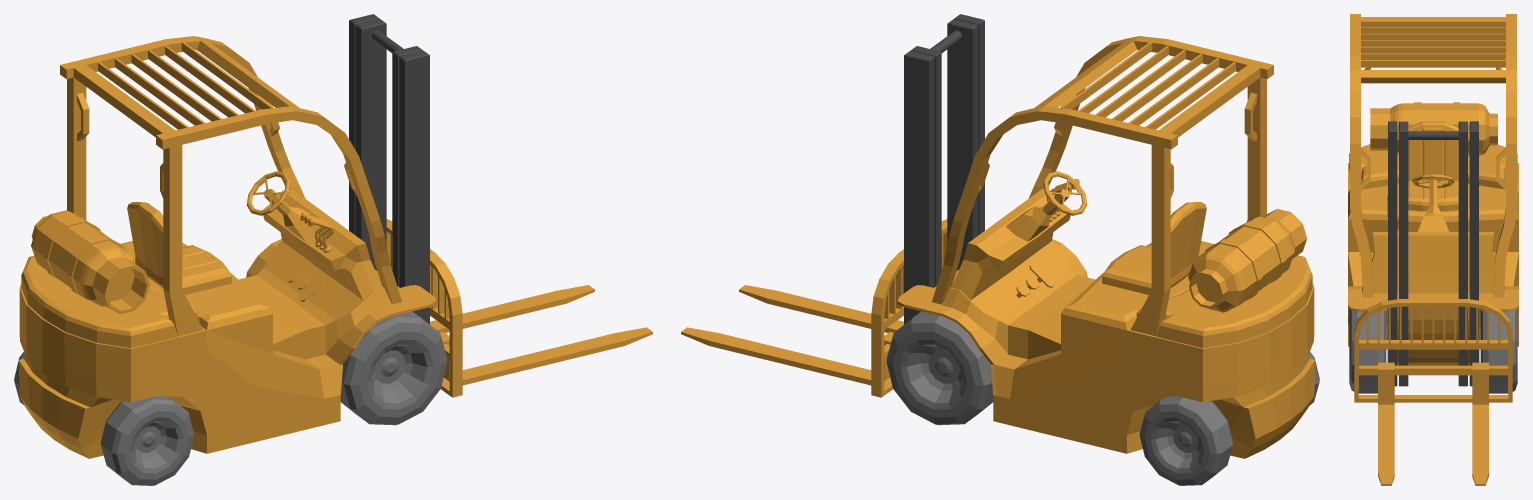
File: Forklift.glb
The picture shows the model from 3 angles, left to right: view 1: azimuth 30°, elevation 25°; view 2: azimuth 150°, elevation 25°; view 3: azimuth 270°, elevation 25°; orthographic projection. The views are drawn at different scales.
Parts seen in each view (by area): view 1: Fork_Lift_Body, Tire_Front_Right, Fork_Rails_Outer, Forks, Fork_Rails_Inner, Tire_Back_Right; view 2: Fork_Lift_Body, Tire_Front_Left, Fork_Rails_Outer, Forks, Fork_Rails_Inner, Tire_Back_Left; view 3: Fork_Lift_Body, Forks, Fork_Rails_Inner, Fork_Rails_Outer, Tire_Front_Left, Tire_Front_Right.
Part boxes in pixels (bbox=[...]): Fork_Lift_Body: bbox=[18, 36, 436, 458]; Tire_Front_Right: bbox=[340, 311, 447, 425]; Fork_Rails_Outer: bbox=[349, 14, 429, 324]; Forks: bbox=[386, 219, 652, 397]; Fork_Rails_Inner: bbox=[355, 19, 423, 286]; Tire_Back_Right: bbox=[100, 396, 194, 485]; Fork_Lift_Body: bbox=[897, 36, 1315, 458]; Tire_Front_Left: bbox=[886, 311, 993, 425]; Fork_Rails_Outer: bbox=[904, 14, 984, 324]; Forks: bbox=[681, 219, 947, 397]; Fork_Rails_Inner: bbox=[910, 19, 978, 286]; Tire_Back_Left: bbox=[1139, 396, 1233, 485]; Fork_Lift_Body: bbox=[1348, 14, 1518, 365]; Forks: bbox=[1354, 299, 1512, 485]; Fork_Rails_Inner: bbox=[1399, 121, 1467, 386]; Fork_Rails_Outer: bbox=[1388, 121, 1478, 386]; Tire_Front_Left: bbox=[1480, 309, 1517, 393]; Tire_Front_Right: bbox=[1349, 309, 1386, 393].
Bounding box in the file's own units: 34.58 × 19.78 × 10.89.
